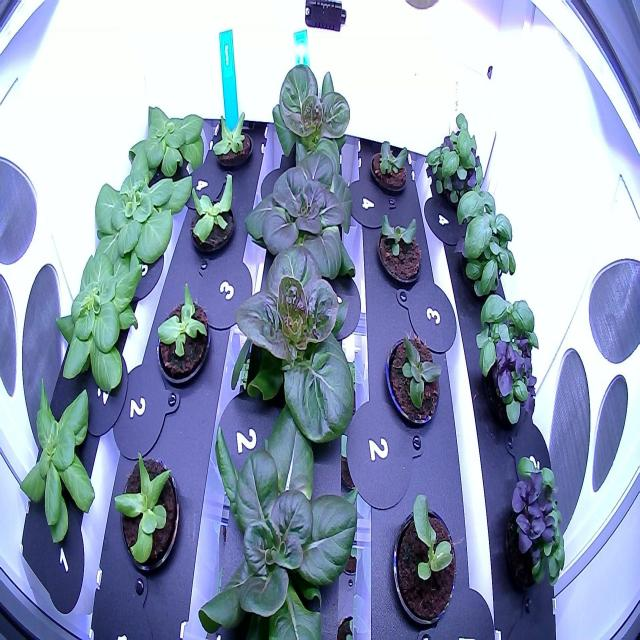young: (190, 377, 368, 640), (214, 225, 368, 455), (243, 139, 362, 303), (11, 370, 108, 555), (88, 143, 198, 296), (52, 240, 149, 405), (262, 56, 356, 196), (106, 439, 190, 585), (386, 484, 459, 632), (123, 94, 210, 202), (148, 272, 222, 396), (384, 322, 446, 438), (182, 166, 246, 261), (371, 210, 426, 294), (205, 100, 257, 178), (364, 125, 414, 203)
